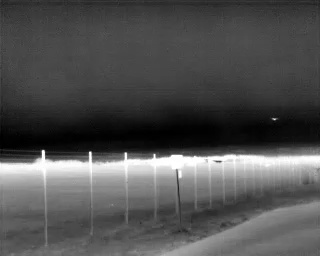AIRPLANE: (270, 115, 279, 122)
